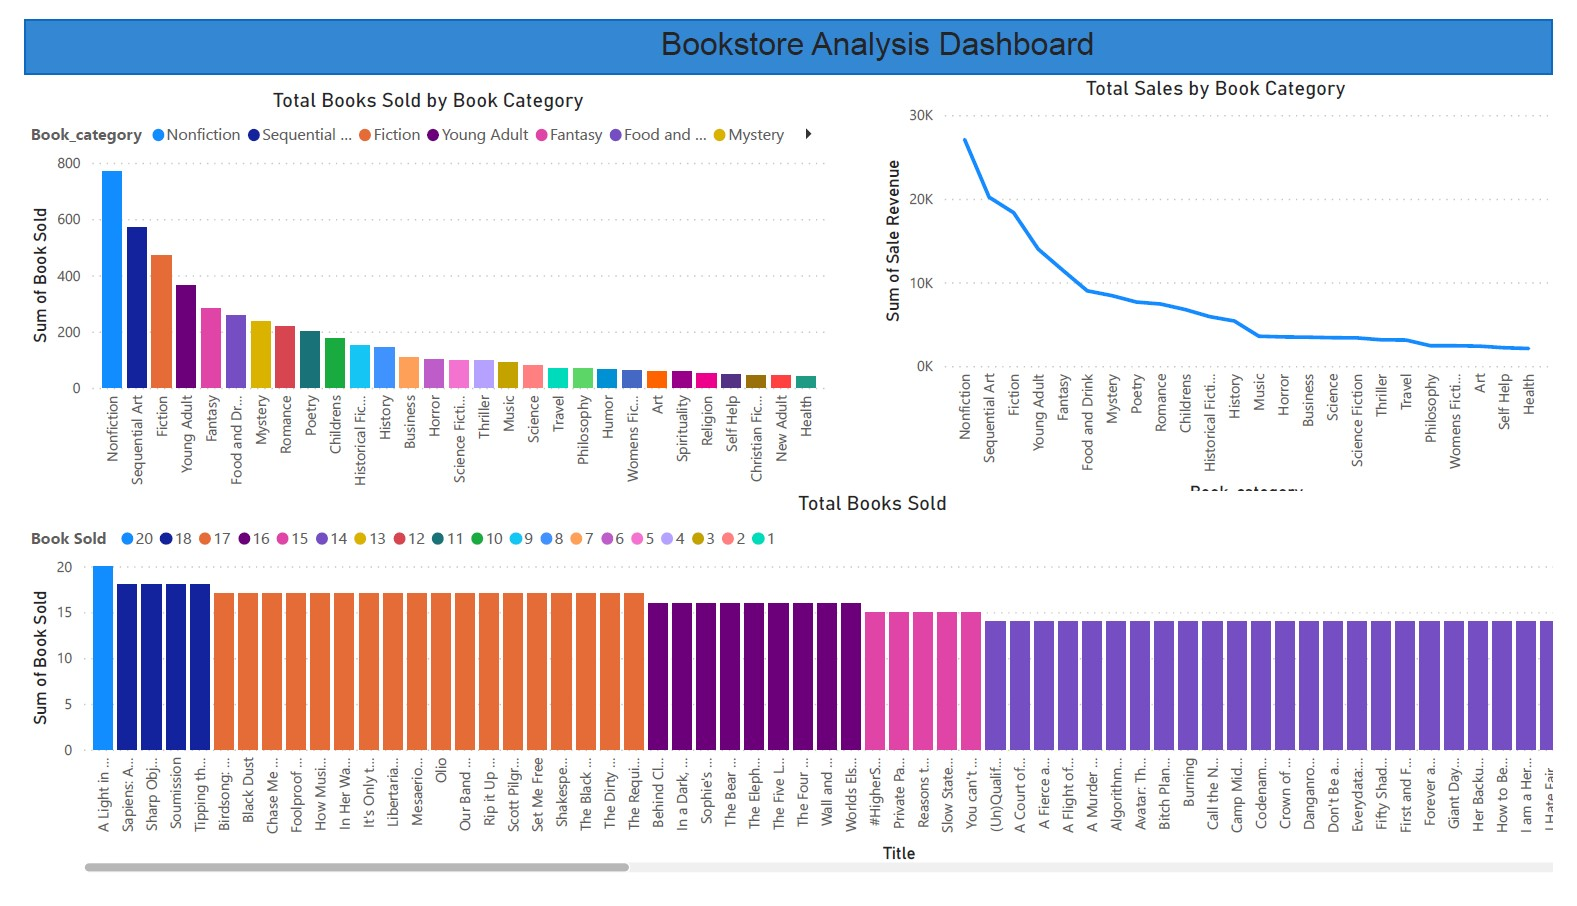

The dashboard page shown, as its layout file describes it:
{"tool":"powerbi","page":{"name":"Page 3","canvas":[1280,720],"ordinal":0},"visuals":[{"type":"columnChart","title":"Total Books Sold by Book Category","fields":{"Category":["bookstore.Book_category"],"Y":["Sum(bookstore.Book Sold )"],"Series":["bookstore.Book_category"]},"box":[0,57.5,676,370.4],"z":0},{"type":"shape","box":[0,0,1279.9,46.5],"z":1000},{"type":"textbox","box":[512.8,1.4,403.1,45.2],"z":2000},{"type":"lineChart","title":"Total Sales by Book Category","fields":{"Category":["bookstore.Book_category"],"Y":["Sum(bookstore.Sale Revenue)"]},"box":[714.3,46.6,566.2,370.2],"z":3000},{"type":"columnChart","title":"Total Books Sold","fields":{"Category":["bookstore.Title"],"Y":["Sum(bookstore.Book Sold )"],"Series":["bookstore.Book Sold "]},"box":[0,395.3,1419.8,324.1],"z":4000}]}

Visuals, with their boxes in screenshot pixels (x1, y1, x2, y2), scaled from the page's 1280x720 canvas onto the 1577x906 screenshot:
"Total Books Sold by Book Category" columnChart: BBox(0, 72, 833, 538)
shape: BBox(0, 0, 1576, 59)
textbox: BBox(632, 2, 1128, 59)
"Total Sales by Book Category" lineChart: BBox(880, 59, 1576, 524)
"Total Books Sold" columnChart: BBox(0, 497, 1576, 905)
